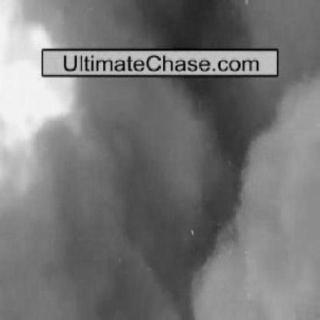Fire: (2, 1, 92, 197)
Smoke: (122, 98, 314, 315)
